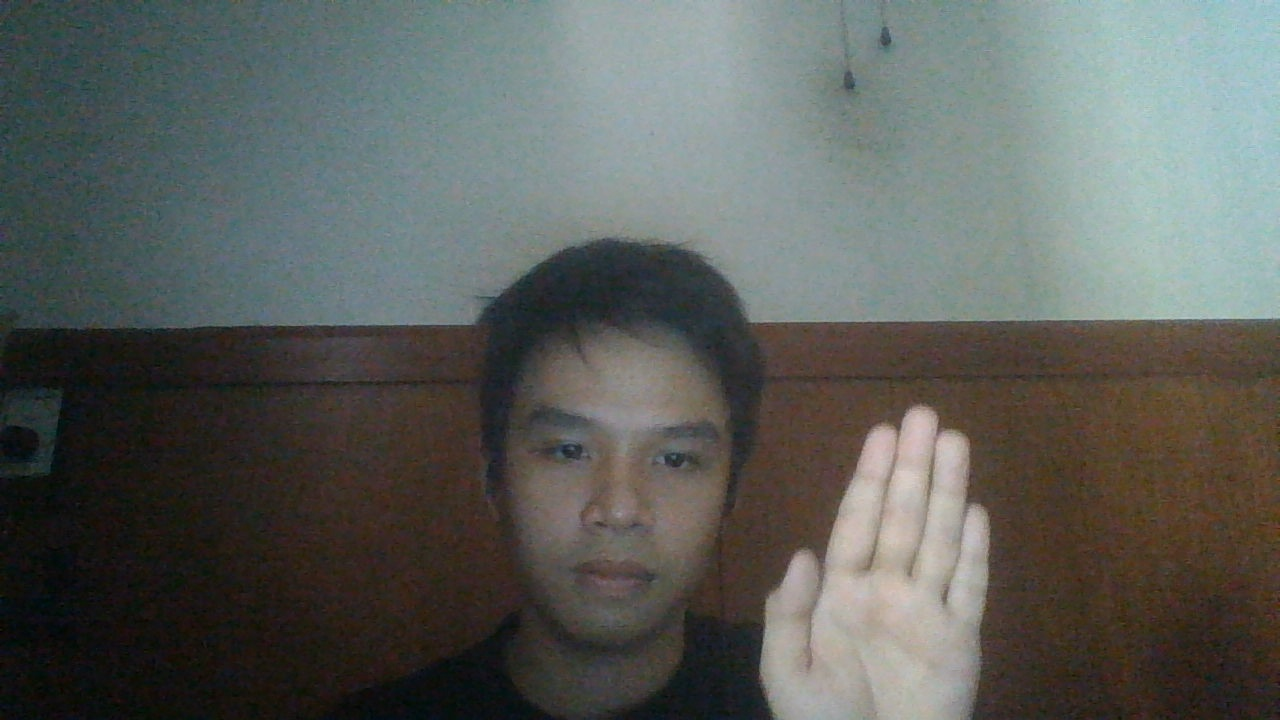check: (754, 408, 997, 720)
